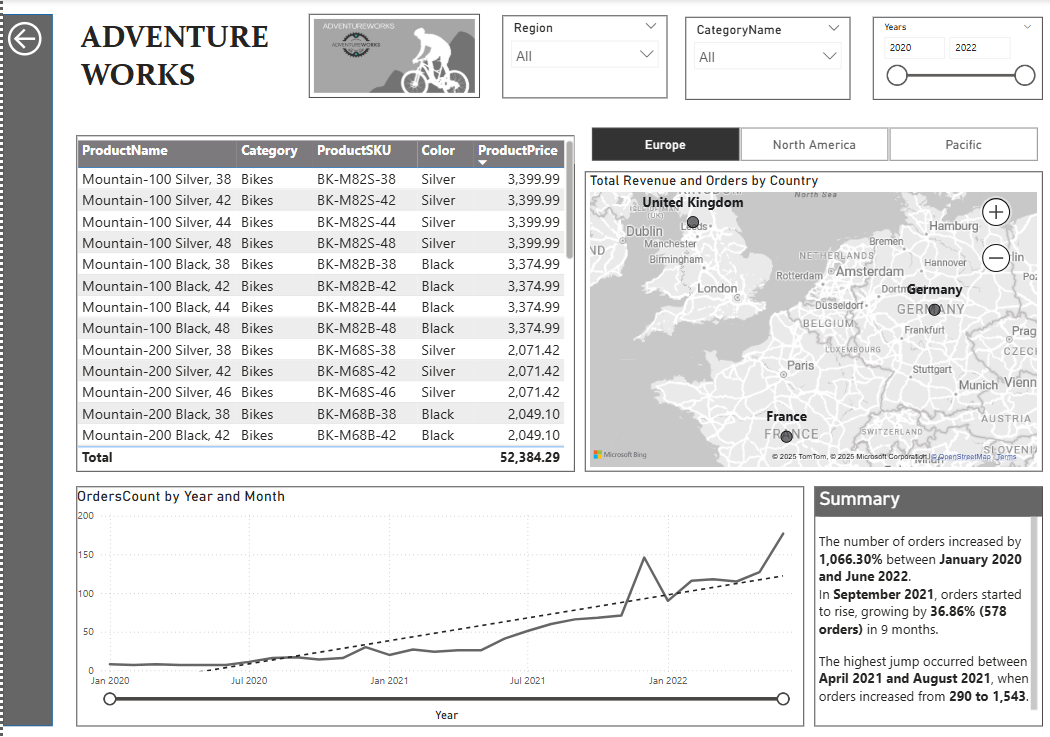

What the dashboard file says about the page in this screenshot:
{"tool":"powerbi","page":{"name":"Dashboard 2","canvas":[1280,900],"ordinal":1},"visuals":[{"type":"shape","box":[0,18.9,60.5,867.4],"z":0},{"type":"map","fields":{"Category":["Territory Lookup.Country","Territory Lookup.Region"]},"box":[708.8,210.1,557.2,365.4],"z":1000},{"type":"tableEx","fields":{"Values":["Product Lookup.ProductName","Product Categories Lookup.CategoryName","Product Lookup.ProductSKU","Product Lookup.ProductColor","Sum(Product Lookup.ProductPrice)"]},"box":[89.5,166.2,606.5,409.2],"z":2000},{"type":"slicer","fields":{"Values":["Territory Lookup.Continent"]},"box":[696,153.5,582.8,47.5],"z":3000},{"type":"lineChart","fields":{"Y":["Measure Table.OrdersCount"],"Category":["Calendar Lookup.MonthYear.Variation.Date Hierarchy.Year","Calendar Lookup.MonthYear.Variation.Date Hierarchy.Month"]},"box":[89.5,593.7,886,292.3],"z":4000},{"type":"actionButton","box":[0,22.7,107.7,52.9],"z":5000},{"type":"slicer","fields":{"Values":["Calendar Lookup.Years"]},"box":[1059.6,21.9,206.4,100.5],"z":6000},{"type":"textbox","box":[88.8,18.9,283.5,113.4],"z":7000},{"type":"image","box":[372.7,18.3,208.3,102.3],"z":8000},{"type":"textbox","title":"Summary","box":[988.3,593.7,277.7,292.3],"z":9000},{"type":"slicer","fields":{"Values":["Product Categories Lookup.CategoryName"]},"box":[831.2,21.9,201,100.5],"z":10000},{"type":"slicer","fields":{"Values":["Territory Lookup.Region"]},"box":[608.3,20.1,201,100.5],"z":11000}]}

Visuals, with their boxes on the page's 1280x900 design canvas (x1, y1, x2, y2). These are canvas units, not pixel positions in the 1050x737 screenshot, which may show the page scaled, cropped or inside an application window:
shape: 0 19 60 886
map - Territory Lookup.Country x Territory Lookup.Region: 709 210 1266 576
tableEx - Product Lookup.ProductName x Product Categories Lookup.CategoryName: 90 166 696 575
slicer - Territory Lookup.Continent: 696 154 1279 201
lineChart - Measure Table.OrdersCount x Calendar Lookup.MonthYear.Variation.Date Hierarchy.Year: 90 594 976 886
actionButton: 0 23 108 76
slicer - Calendar Lookup.Years: 1060 22 1266 122
textbox: 89 19 372 132
image: 373 18 581 121
"Summary" textbox: 988 594 1266 886
slicer - Product Categories Lookup.CategoryName: 831 22 1032 122
slicer - Territory Lookup.Region: 608 20 809 121
